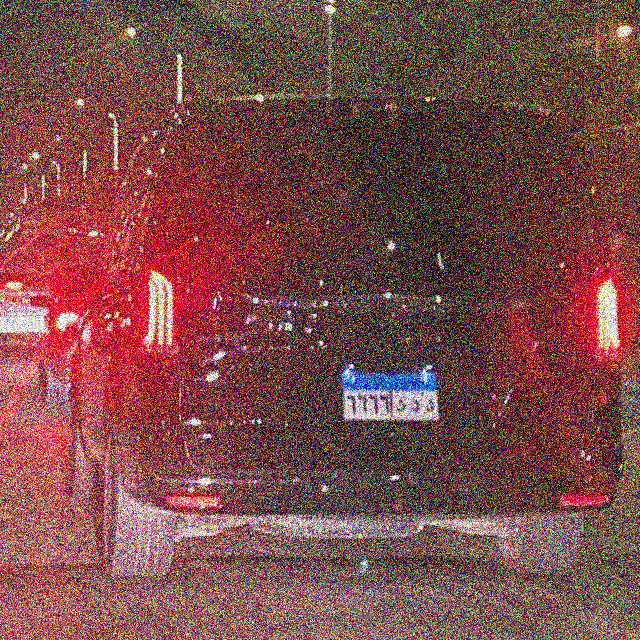License Plate: (342, 369, 441, 421)
